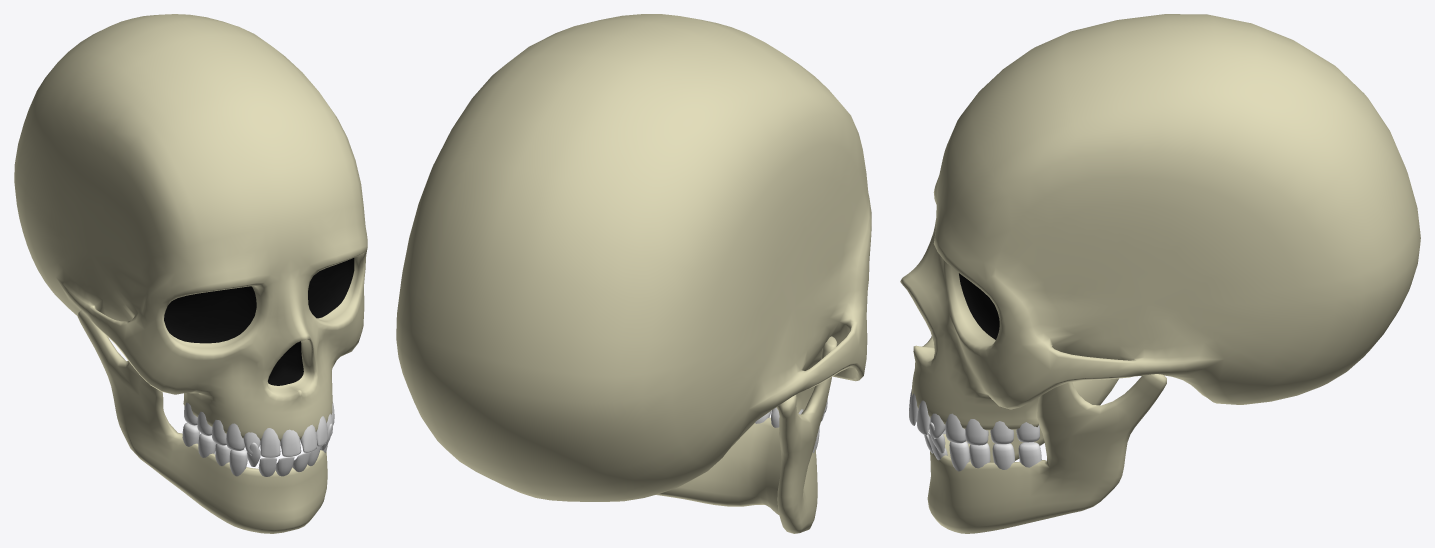
The model's file is SkullSmooth.fbx.
3 renders of one model, left to right at view 1: azimuth 30°, elevation 25°; view 2: azimuth 150°, elevation 25°; view 3: azimuth 270°, elevation 25°, orthographic. The views are drawn at different scales.
Parts seen in each view (by area): view 1: Skull, Lower_Jaw; view 2: Skull, Lower_Jaw; view 3: Skull, Lower_Jaw.
Part boxes in pixels (x1=…): Skull: x1=14, y1=14, x2=367, y2=457; Lower_Jaw: x1=77, y1=310, x2=332, y2=533; Skull: x1=396, y1=14, x2=871, y2=501; Lower_Jaw: x1=656, y1=336, x2=837, y2=533; Skull: x1=900, y1=14, x2=1420, y2=445; Lower_Jaw: x1=924, y1=374, x2=1166, y2=533.
Size of the model in its own units: 11.3 by 18.57 by 19.07.
